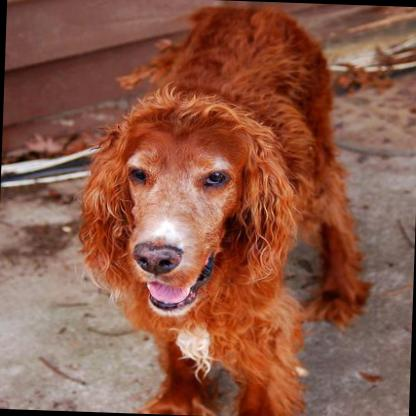Irish_setter: (63, 0, 380, 416)
